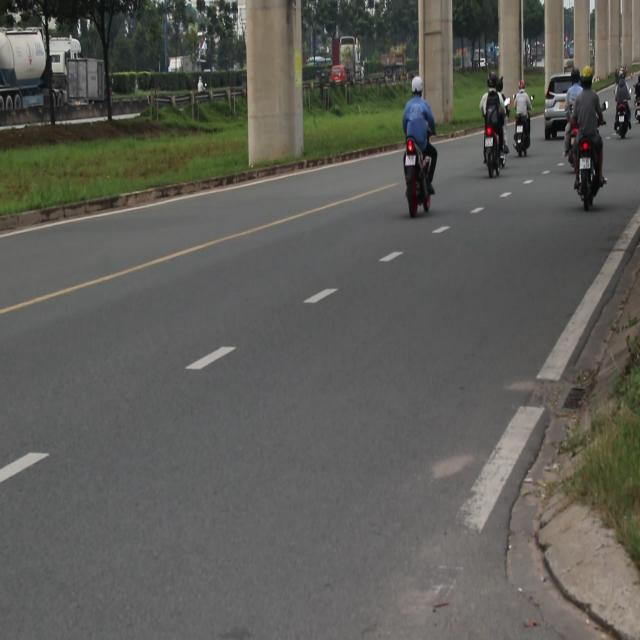car: (544, 73, 572, 138)
motorbike: (574, 141, 609, 227), (402, 141, 435, 215), (476, 123, 502, 195), (564, 122, 583, 162), (615, 100, 632, 138), (516, 119, 528, 168)
truck: (67, 55, 107, 113), (337, 31, 363, 81)
